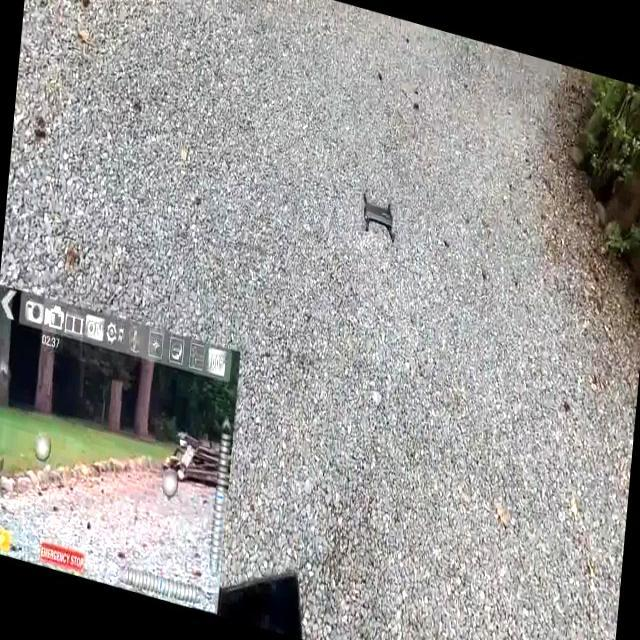drone: (355, 183, 403, 249)
